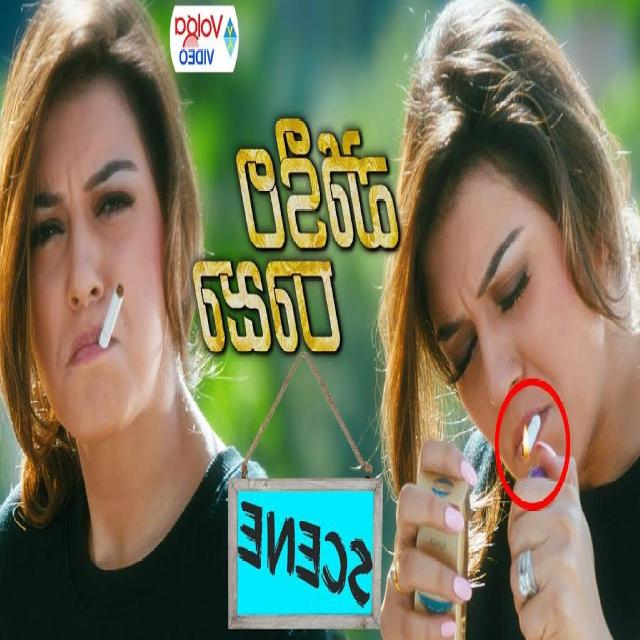smoking: (413, 2, 608, 504), (18, 4, 178, 438)
